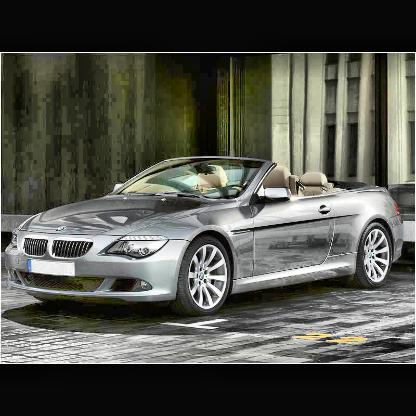BMW M6 Convertible 2010: (6, 156, 405, 320)
